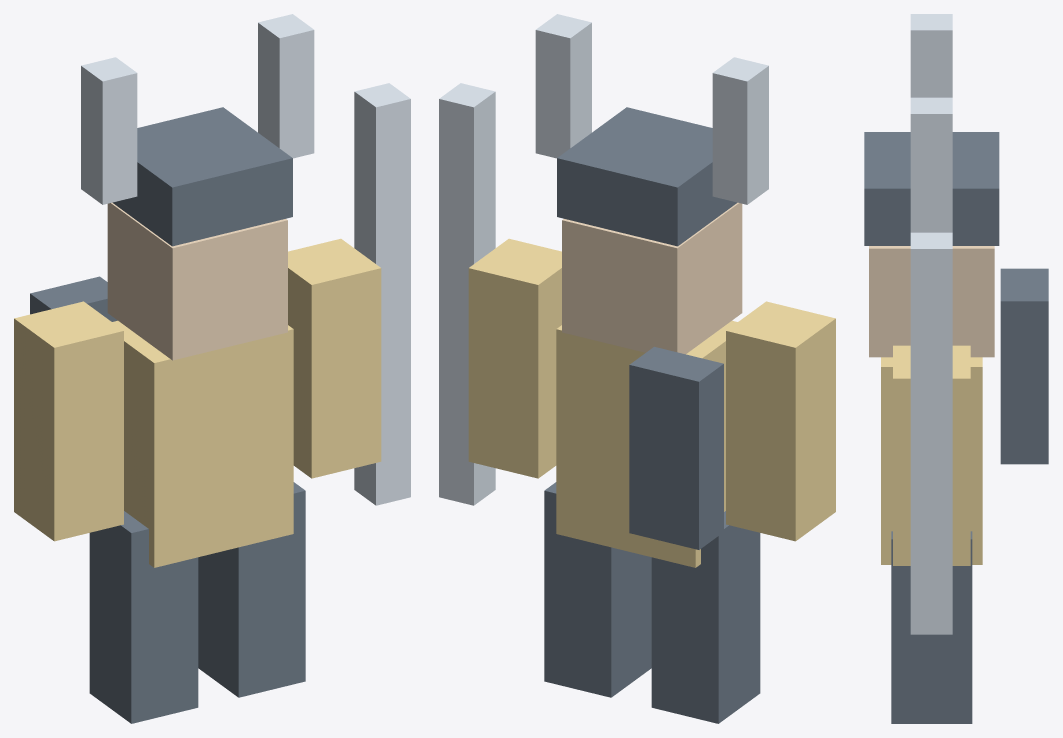
3 views of the same model, side by side, from view 1: azimuth 30°, elevation 25°; view 2: azimuth 150°, elevation 25°; view 3: azimuth 270°, elevation 25° (orthographic). The views are drawn at different scales.
Visible parts, largest first — view 1: chest, arm-1, head, arm1, leg-1, ranged_bow, cap, leg1, horn1, horn2, quiver; view 2: arm-1, head, arm1, leg-1, ranged_bow, chest, quiver, cap, leg1, horn1, horn2; view 3: ranged_bow, cap, leg1, quiver, head, arm1, horn2, chest, horn1.
Boxes of the visible parts, x1,y1,x2,y2 form: chest: (112,320,293,567); arm-1: (14,301,123,541); head: (107,202,287,360); arm1: (288,238,381,478); leg-1: (89,511,198,723); ranged_bow: (354,83,410,505); cap: (112,107,292,246); leg1: (198,482,305,697); horn1: (81,57,137,204); horn2: (258,14,314,158); quiver: (30,276,117,321); arm-1: (726,301,835,541); head: (562,202,742,354); arm1: (468,238,561,478); leg-1: (651,511,760,723); ranged_bow: (439,83,495,505); chest: (556,320,737,567); quiver: (629,346,723,549); cap: (557,107,737,246); leg1: (544,482,651,697); horn1: (712,57,768,204); horn2: (535,14,591,158); ranged_bow: (910,232,952,634); cap: (864,132,999,245); leg1: (891,531,972,723); quiver: (1000,268,1048,464); head: (869,246,994,357); arm1: (893,345,970,565); horn2: (910,97,952,232); chest: (881,357,982,564); horn1: (910,14,952,97).
Bounding box in the file's own units: 1.36 × 2.28 × 0.615.
